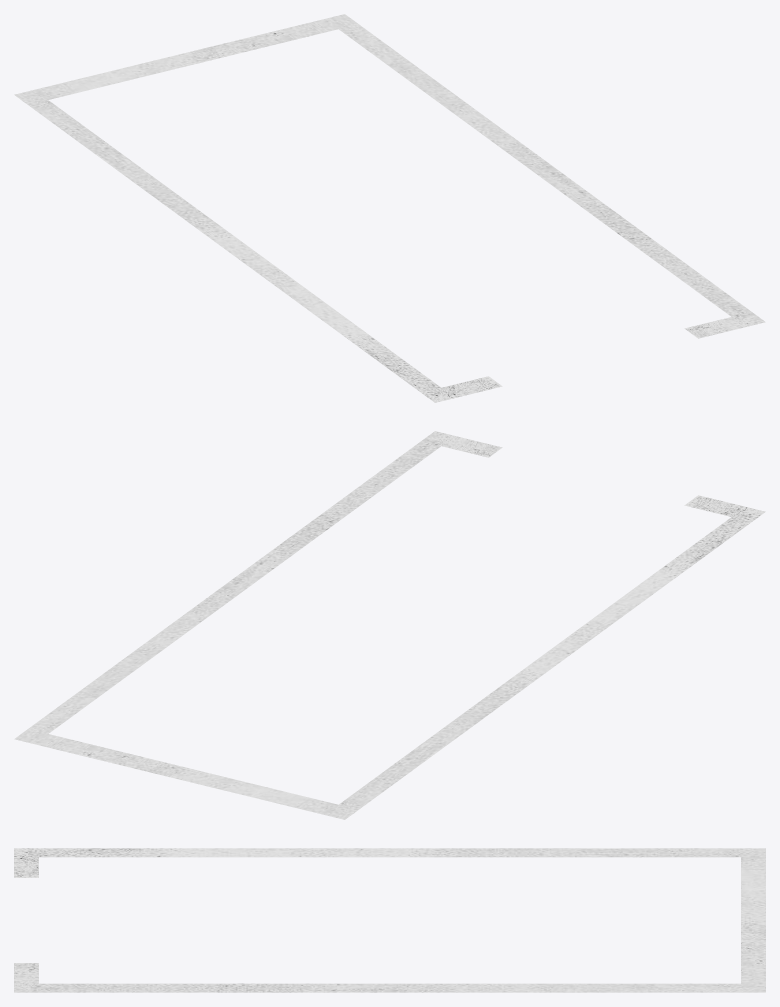
Rendered from ParkingLine_003.fbx.
3 views of the same model, one above another, from view 1: azimuth 30°, elevation 25°; view 2: azimuth 150°, elevation 25°; view 3: azimuth 270°, elevation 25° (orthographic). The views are drawn at different scales.
Parts seen in each view (by area): view 1: ParkingLine_003; view 2: ParkingLine_003; view 3: ParkingLine_003.
Part boxes in pixels (x1=…): ParkingLine_003: x1=14, y1=14, x2=765, y2=402; ParkingLine_003: x1=14, y1=431, x2=765, y2=819; ParkingLine_003: x1=14, y1=848, x2=765, y2=992.
Bounding box in the file's own units: 227 × 2.21e-11 × 499.
1 material, 1 textured.
